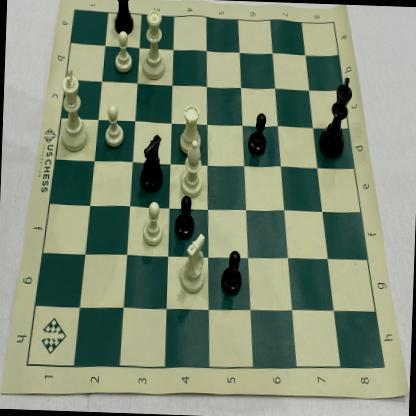black-king: (317, 72, 358, 160)
black-knight: (138, 130, 166, 198)
black-pawn: (219, 245, 246, 298), (245, 108, 270, 158), (172, 192, 198, 240)
black-rook: (113, 0, 135, 38)
white-bishop: (176, 138, 210, 202)
white-king: (56, 64, 95, 157)
white-knight: (177, 229, 210, 299)
white-pawn: (111, 28, 137, 76), (102, 102, 128, 150), (142, 200, 166, 252)
white-queen: (138, 5, 171, 83)
white-rook: (177, 101, 204, 159)
